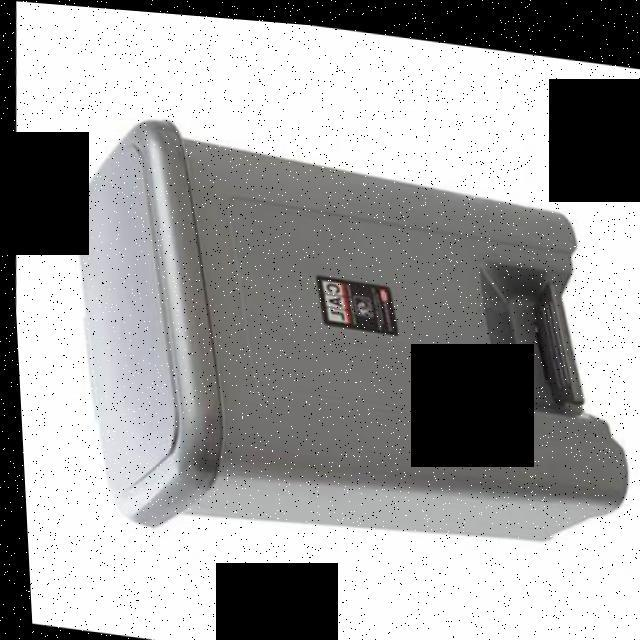bin: (40, 89, 640, 592)
